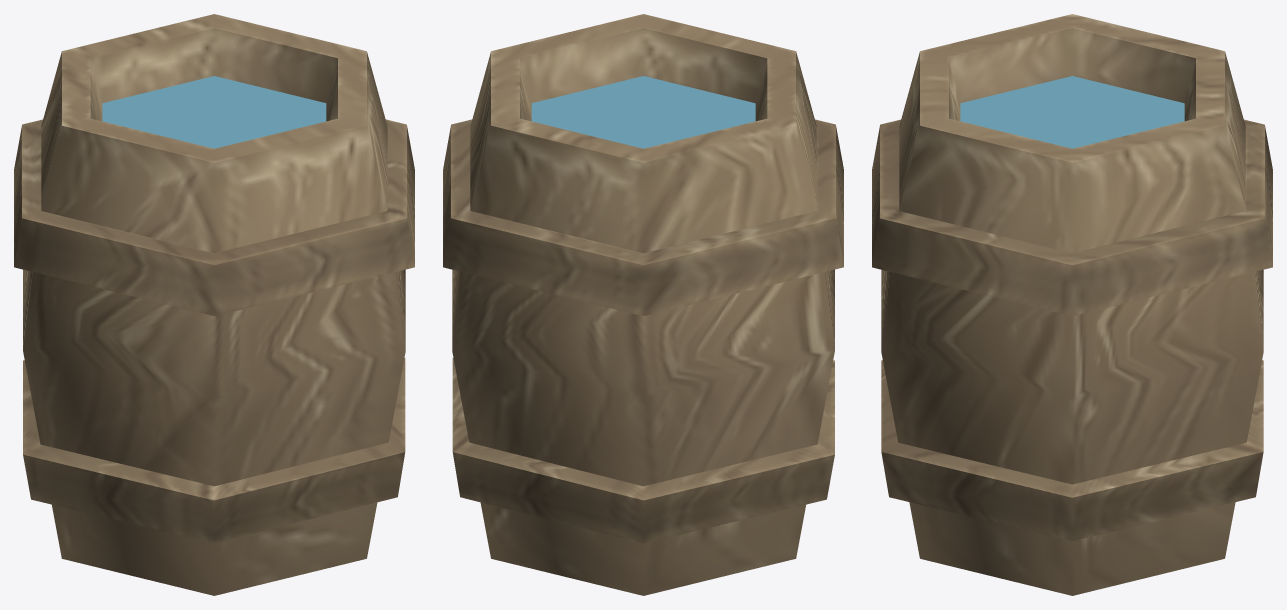
File: Egypt_Village_Props_03.FBX
The picture shows the model from 3 angles, left to right: view 1: azimuth 30°, elevation 25°; view 2: azimuth 150°, elevation 25°; view 3: azimuth 270°, elevation 25°; orthographic projection.
Visible parts, largest first — view 1: Egypt_Village_Props_03; view 2: Egypt_Village_Props_03; view 3: Egypt_Village_Props_03.
Boxes of the visible parts, bbox=[...] form: Egypt_Village_Props_03: bbox=[14, 14, 414, 595]; Egypt_Village_Props_03: bbox=[443, 14, 843, 595]; Egypt_Village_Props_03: bbox=[872, 14, 1272, 595].
Size of the model in its own units: 48.17 by 49.73 by 41.72.
